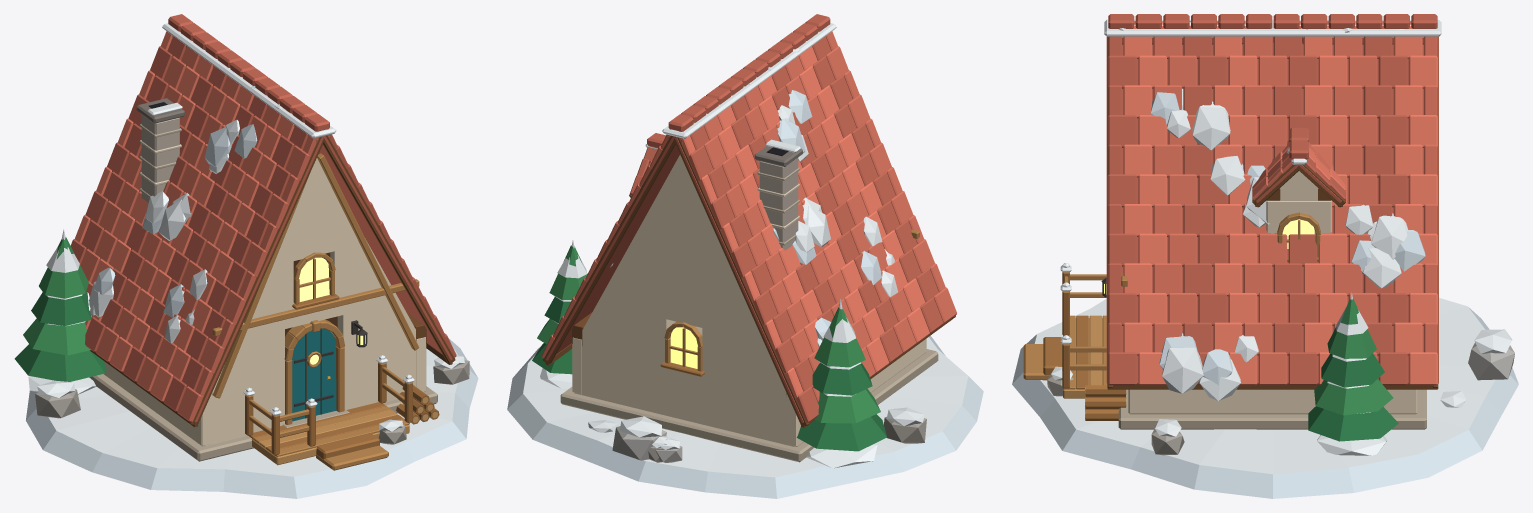
The model's file is aframe_cabin_exterior.glb.
The picture shows the model from 3 angles, left to right: view 1: azimuth 30°, elevation 25°; view 2: azimuth 150°, elevation 25°; view 3: azimuth 270°, elevation 25°; orthographic projection. The views are drawn at different scales.
Parts seen in each view (by area): view 1: aframe_cabin_exterior, aframe_cabin_exterior_roof; view 2: aframe_cabin_exterior, aframe_cabin_exterior_roof; view 3: aframe_cabin_exterior_roof, aframe_cabin_exterior.
Boxes of the visible parts, x1,y1,x2,y2 form: aframe_cabin_exterior: [14, 153, 478, 498]; aframe_cabin_exterior_roof: [70, 14, 456, 427]; aframe_cabin_exterior: [507, 154, 983, 498]; aframe_cabin_exterior_roof: [542, 14, 956, 427]; aframe_cabin_exterior_roof: [1104, 14, 1441, 400]; aframe_cabin_exterior: [1012, 263, 1518, 498].
Size of the model in its own units: 8.16 by 6.18 by 7.73.
